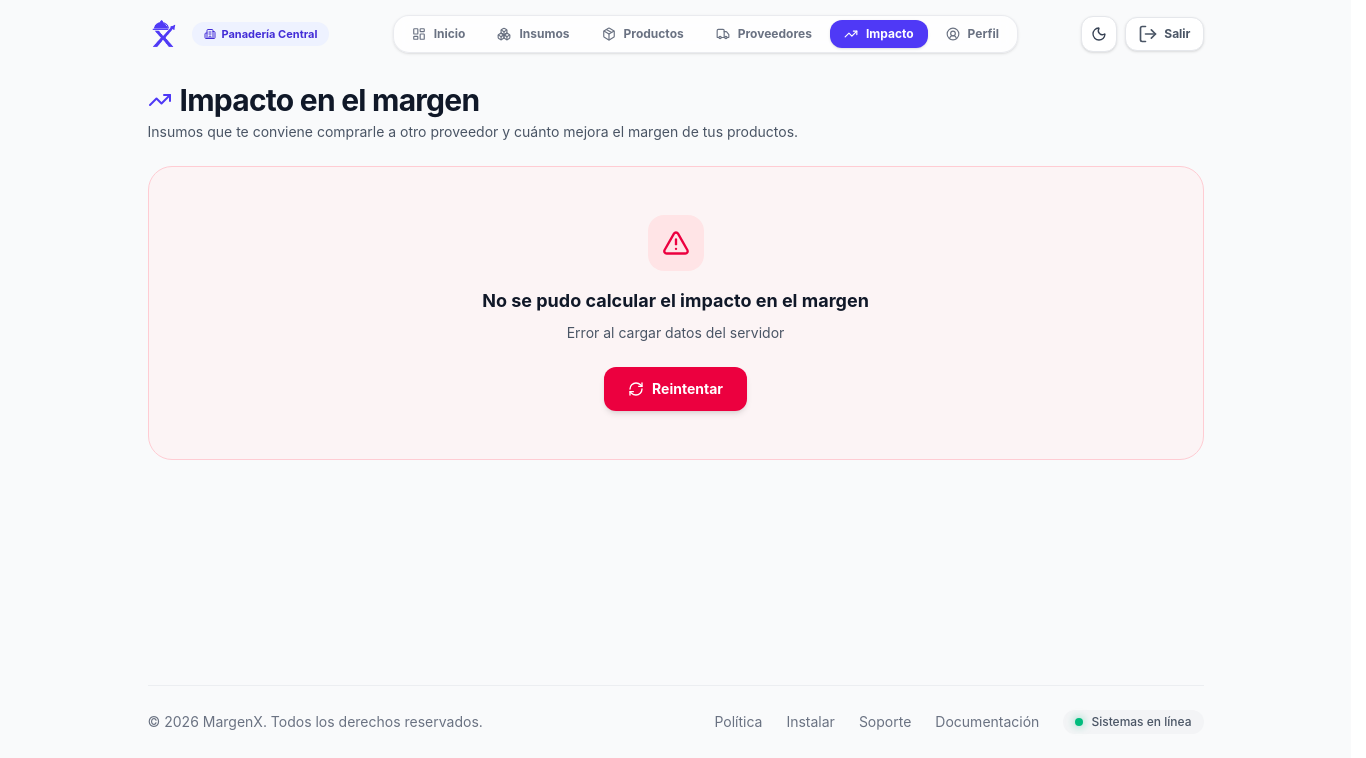
Test case: PurchasesPage (/compras, Impacto en el margen) › muestra el error de la API y permite reintentar
The width and height of the screenshot is (1366, 758).
Expected: the heading "No se pudo calcular el impacto en el margen" is shown, [482,287,869,315]
Expected: the text "Error al cargar datos del servidor" is shown, [567,323,784,343]
Click the button "Reintentar" at (676, 389), box [604,367,747,411]
(page scrolled)
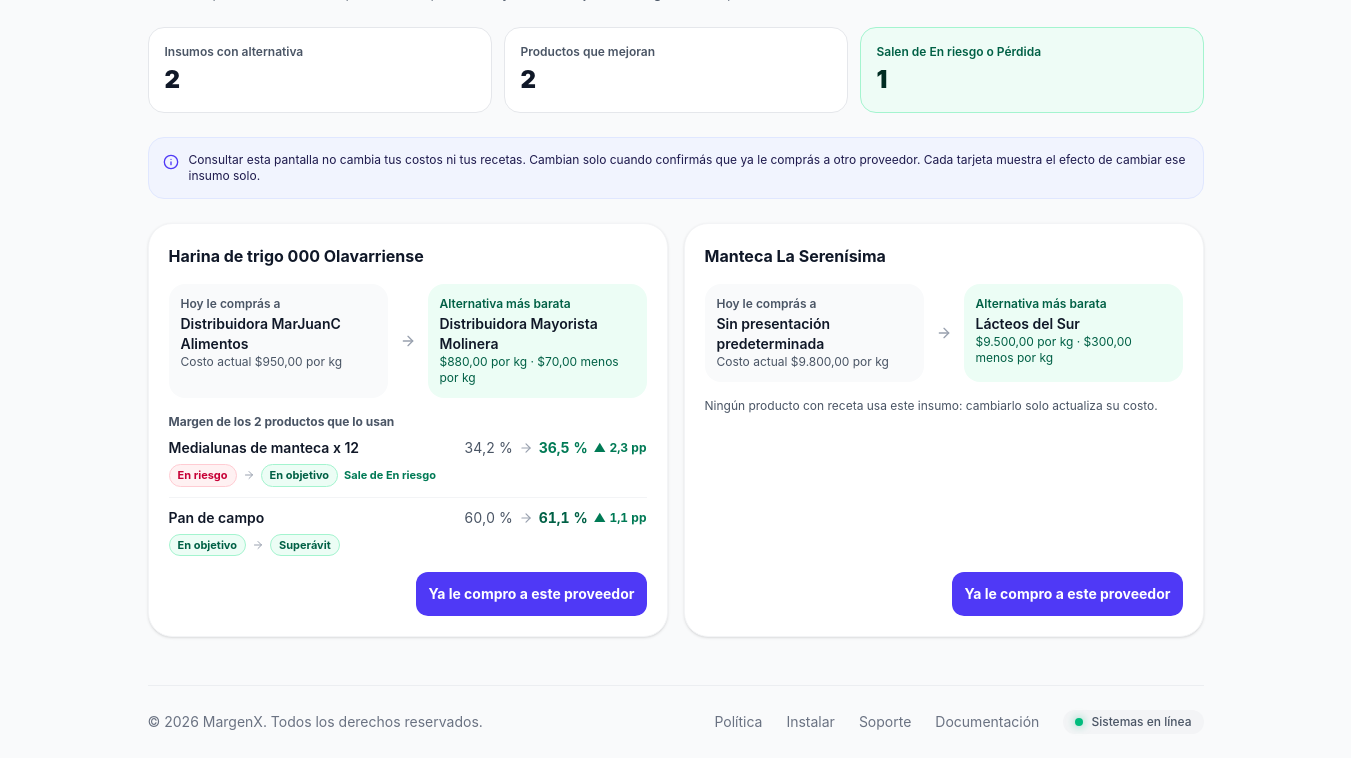
Expected: the element "Harina de trigo 000 Olavarriense" is shown, [148,223,668,637]
